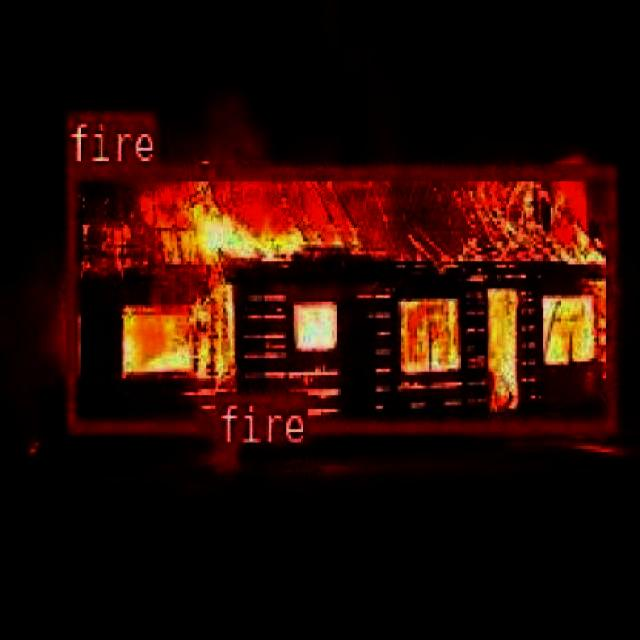fire: (62, 162, 616, 432), (214, 442, 237, 467)
